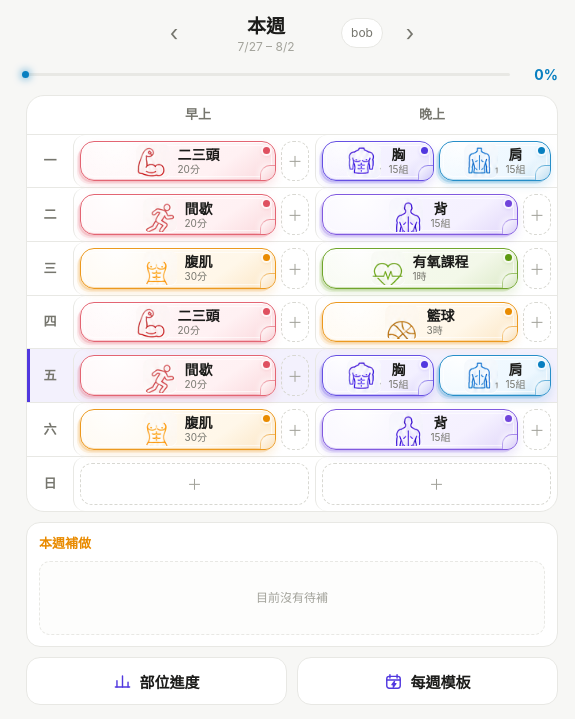
it: App — 格線外移到補做 › 從圖片位置按住也由整顆方塊接管拖曳
This screenshot has width=575, height=719.
expect the text "早上" is shown: met, box [185,106,211,122]
Press the mouse on the 1st picture with class "training-icon": (152, 161) [136,144,170,178]
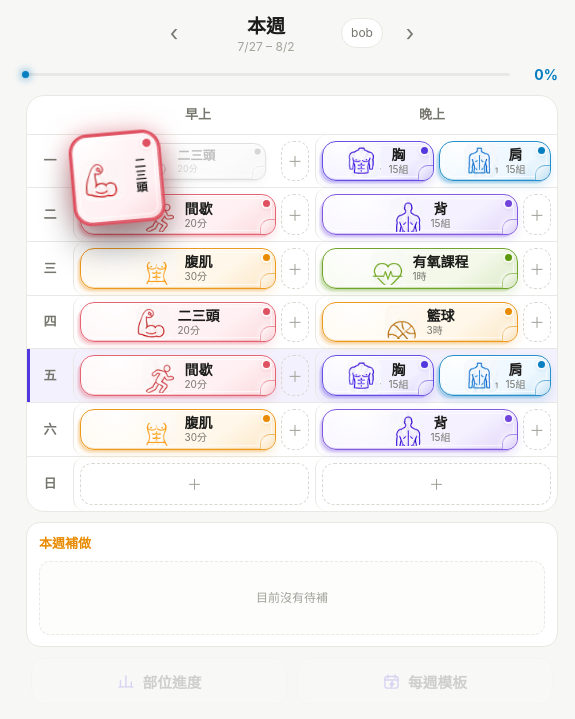
expect the element with class "is-floating" is shown: met, box [70,130,164,225]
